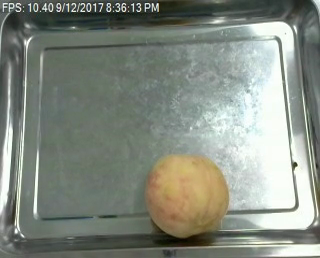Peach: (146, 153, 229, 238)
